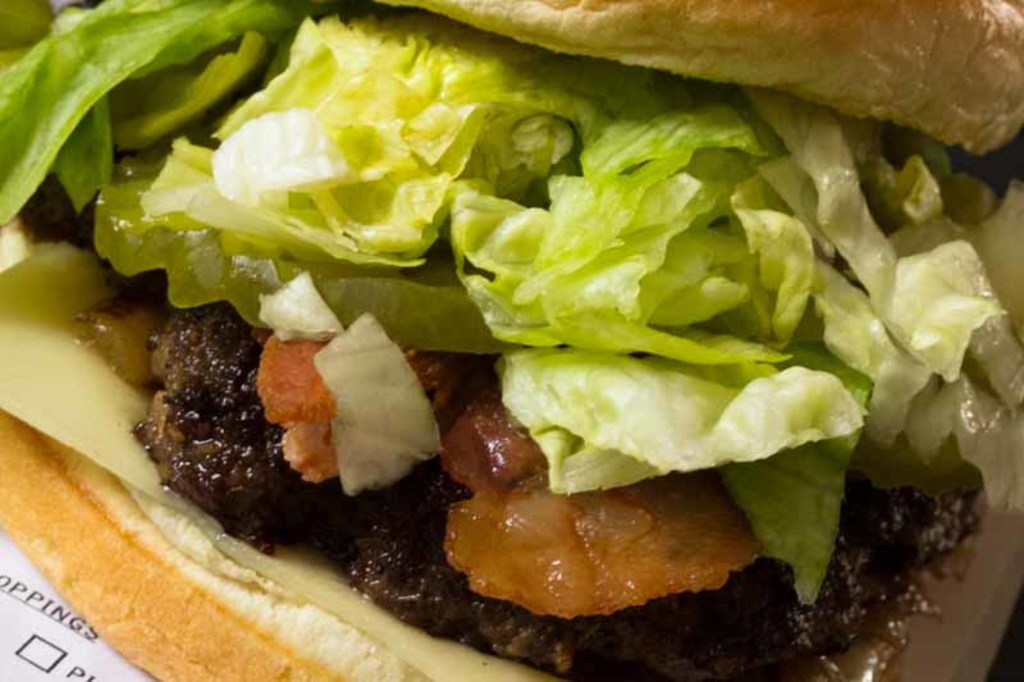Hamburger: (0, 0, 1022, 680)
